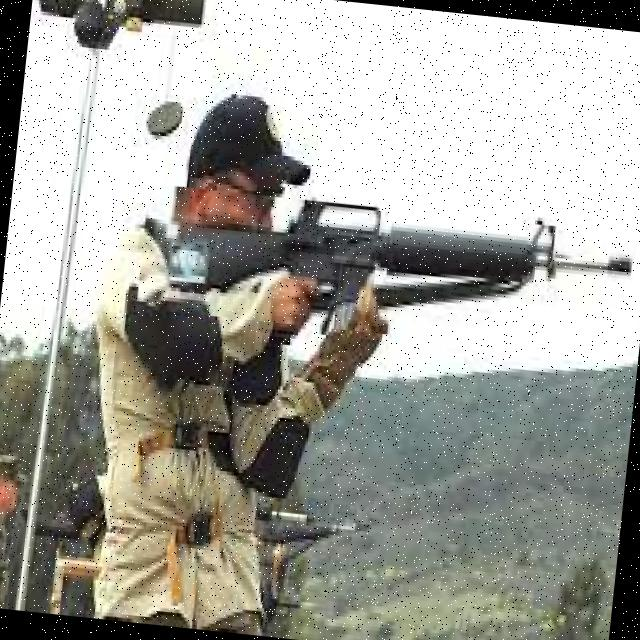fire: (137, 185, 638, 361)
